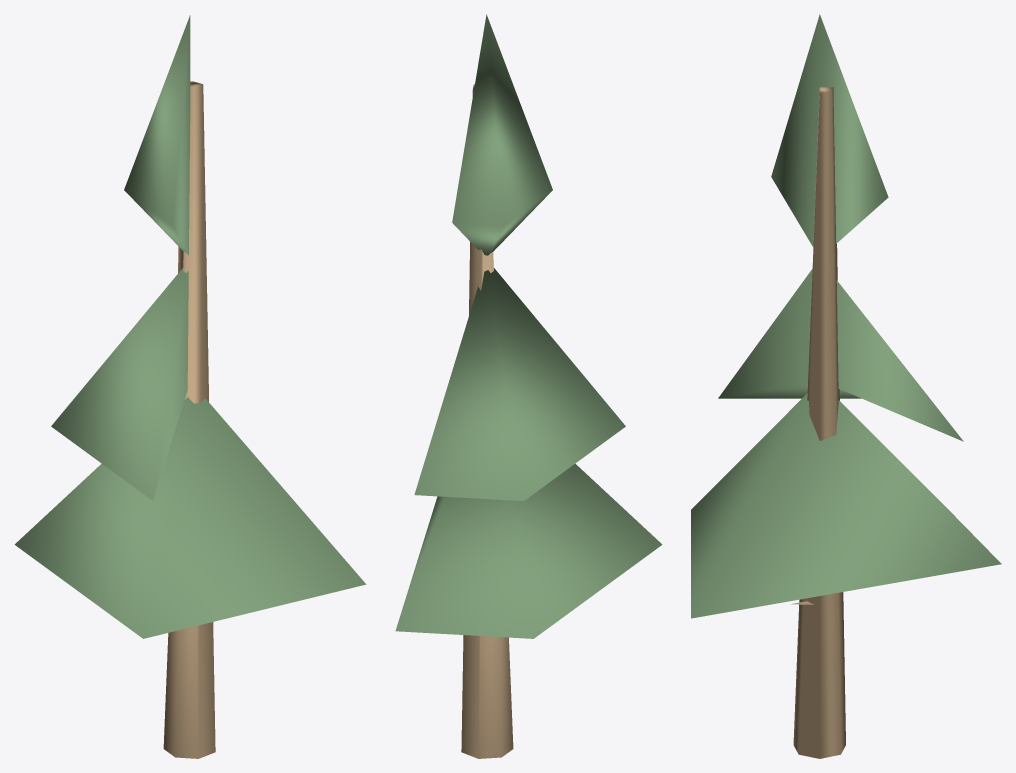
Rendered from PineTree.glb.
3 views of the same model, side by side, from view 1: azimuth 30°, elevation 25°; view 2: azimuth 150°, elevation 25°; view 3: azimuth 270°, elevation 25° (orthographic).
Parts seen in each view (by area): view 1: pine-tree; view 2: pine-tree; view 3: pine-tree.
Boxes of the visible parts, x1=… form: pine-tree: x1=14, y1=15, x2=366, y2=758; pine-tree: x1=395, y1=14, x2=662, y2=758; pine-tree: x1=691, y1=14, x2=1001, y2=758.
Bounding box in the file's own units: 1.91 × 6 × 2.3.
